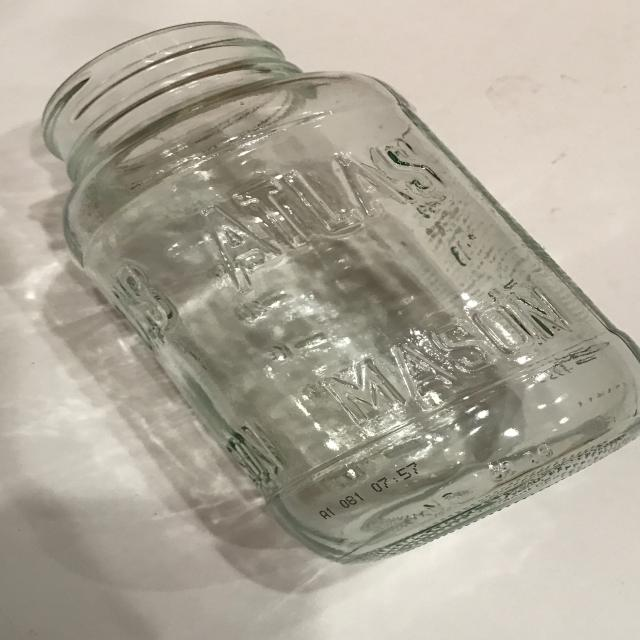glass: (40, 20, 639, 566)
